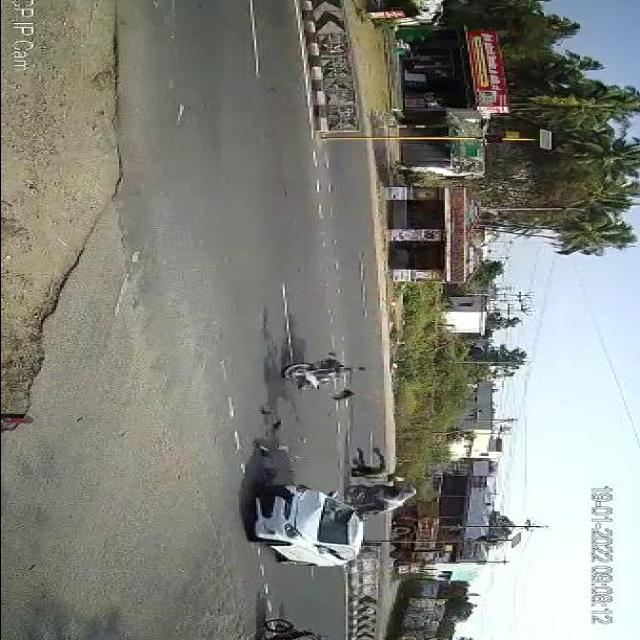accident: (235, 436, 429, 572), (259, 348, 377, 404)
